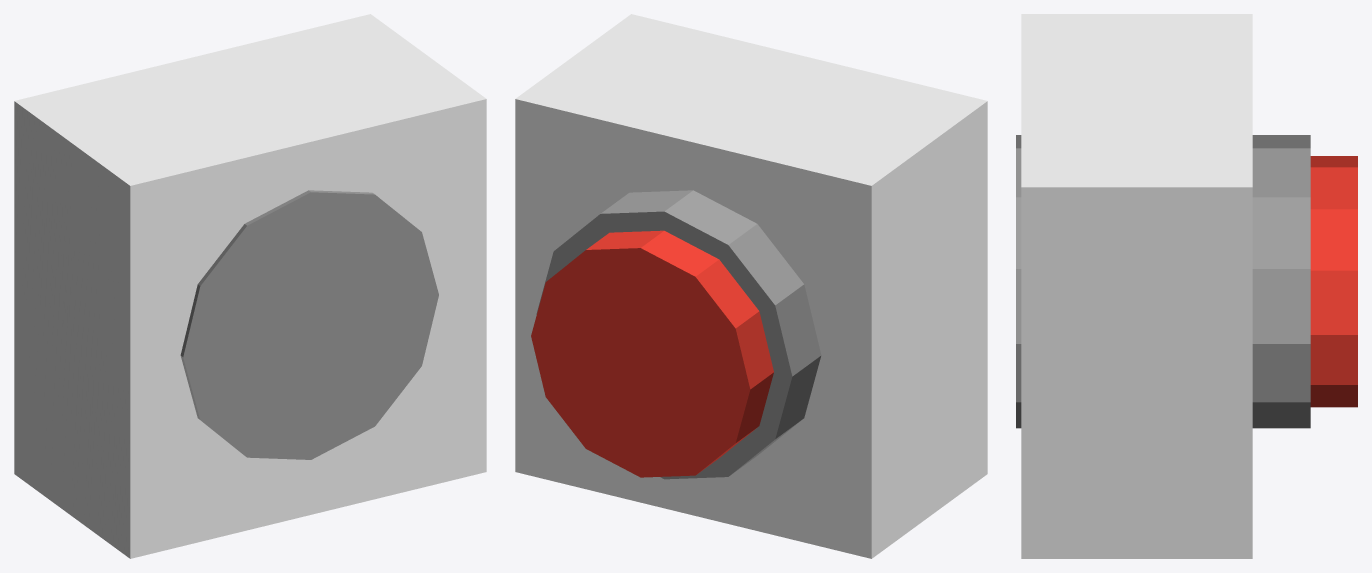
Rendered from RedButton.glb.
3 views of the same model, side by side, from view 1: azimuth 30°, elevation 25°; view 2: azimuth 150°, elevation 25°; view 3: azimuth 270°, elevation 25° (orthographic).
Visible parts, largest first — view 1: group2105204371, group1593787975; view 2: group2105204371, group780585218, group1593787975; view 3: group2105204371, group1593787975, group780585218.
Boxes of the visible parts, x1,y1,x2,y2 form: group2105204371: [14, 14, 486, 558]; group1593787975: [180, 190, 438, 459]; group2105204371: [515, 14, 987, 558]; group780585218: [531, 230, 773, 477]; group1593787975: [536, 190, 821, 479]; group2105204371: [1021, 14, 1252, 558]; group1593787975: [1016, 135, 1310, 428]; group780585218: [1310, 156, 1357, 407].
Bounding box in the file's own units: 0.78 × 0.78 × 0.65.
